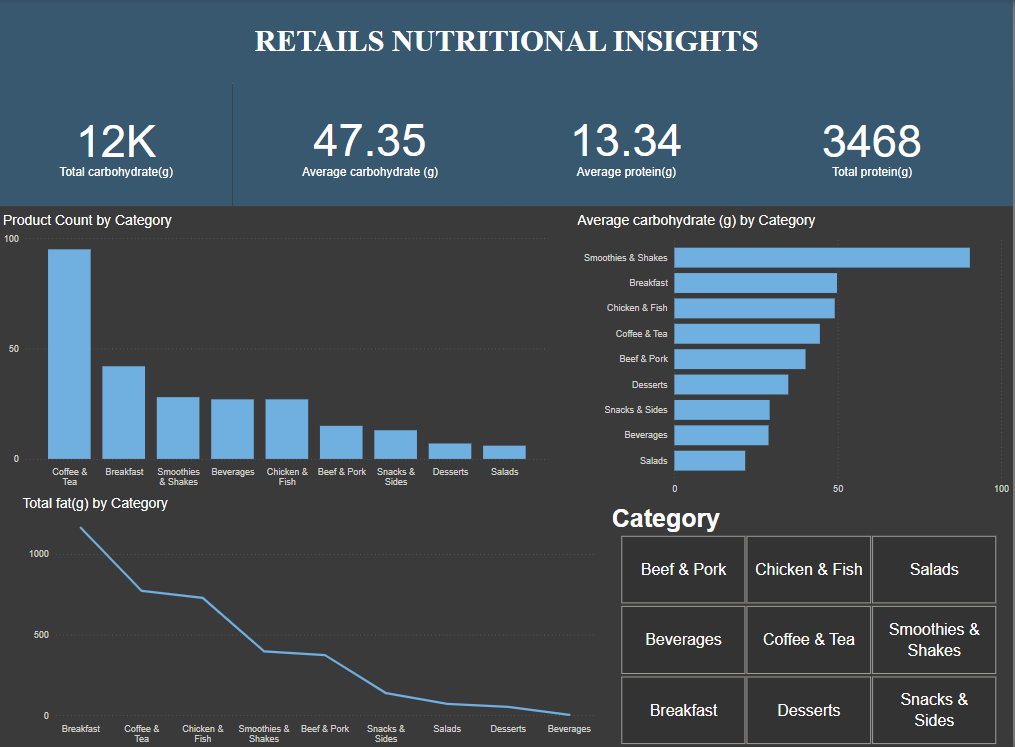

Layout of this report page (visuals, bound fields, positions):
{"tool":"powerbi","page":{"name":"DASBOARD","canvas":[1350,1000],"ordinal":1},"visuals":[{"type":"shape","box":[0,0,1351.1,112.8],"z":0},{"type":"card","fields":{"Values":["Table.Total carbohydrate(g)"]},"box":[0,110.6,310.6,166],"z":1000},{"type":"card","fields":{"Values":["Table.Average carbohydrate"]},"box":[310.6,108.5,363.8,168.1],"z":2000},{"type":"card","fields":{"Values":["Table.Average protein(g)"]},"box":[672.3,108.5,323.4,168.1],"z":3000},{"type":"card","fields":{"Values":["Table.Total protein(g)"]},"box":[972.3,110.6,378.7,166],"z":4000},{"type":"barChart","fields":{"Category":["menuuu.Category"],"Y":["Table.Average carbohydrate (g)"]},"box":[764.9,283,585.1,385.1],"z":5000},{"type":"clusteredColumnChart","title":" Product Count by Category","fields":{"Category":["menuuu.Category"],"Y":["Table.Product Count"]},"box":[0,283,736.2,374.5],"z":6000},{"type":"lineChart","fields":{"Category":["menuuu.Category"],"Y":["Table.Total fat(g)"]},"box":[25.5,661.7,776.6,338.3],"z":7000},{"type":"slicer","fields":{"Values":["menuuu.Category"]},"box":[802.1,668.1,548.9,331.9],"z":8000}]}

Visuals, with their boxes in screenshot pixels (x1, y1, x2, y2), scaled from the page's 1350x1000 canvas onto the 1015x747 screenshot:
shape: BBox(0, 0, 1014, 84)
card - Table.Total carbohydrate(g): BBox(0, 83, 234, 207)
card - Table.Average carbohydrate: BBox(234, 81, 507, 207)
card - Table.Average protein(g): BBox(505, 81, 749, 207)
card - Table.Total protein(g): BBox(731, 83, 1014, 207)
barChart - menuuu.Category x Table.Average carbohydrate (g): BBox(575, 211, 1014, 499)
" Product Count by Category" clusteredColumnChart: BBox(0, 211, 554, 491)
lineChart - menuuu.Category x Table.Total fat(g): BBox(19, 494, 603, 746)
slicer - menuuu.Category: BBox(603, 499, 1014, 746)
